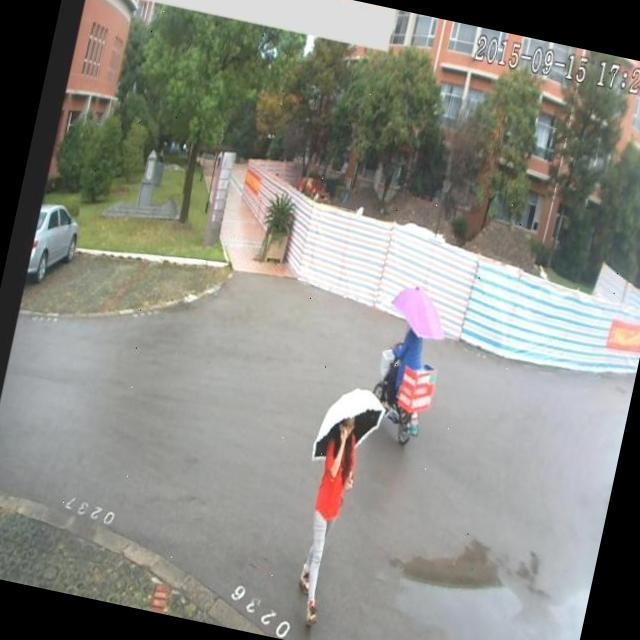person: (289, 409, 371, 632), (382, 304, 433, 398)
